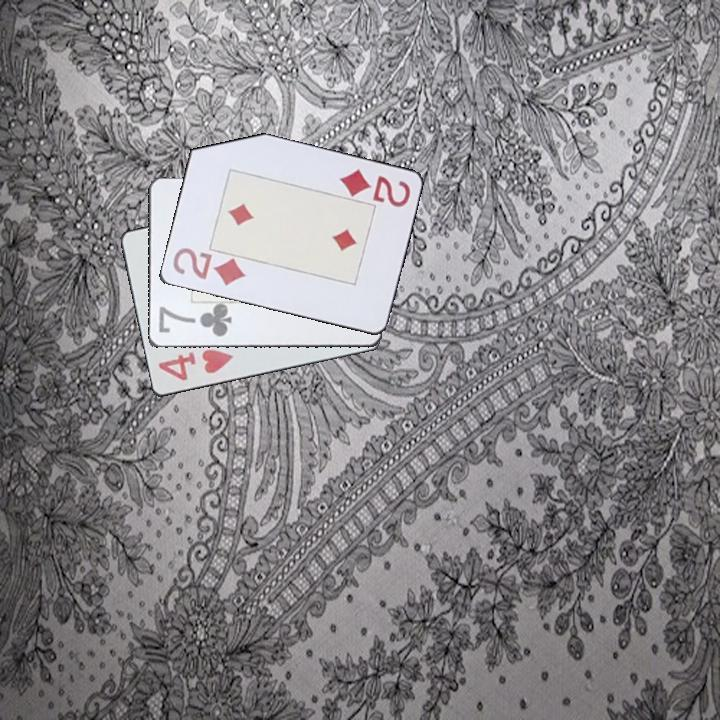2d: (169, 244, 250, 289), (335, 166, 413, 210)
4h: (154, 346, 237, 385)
7c: (155, 305, 234, 340)
